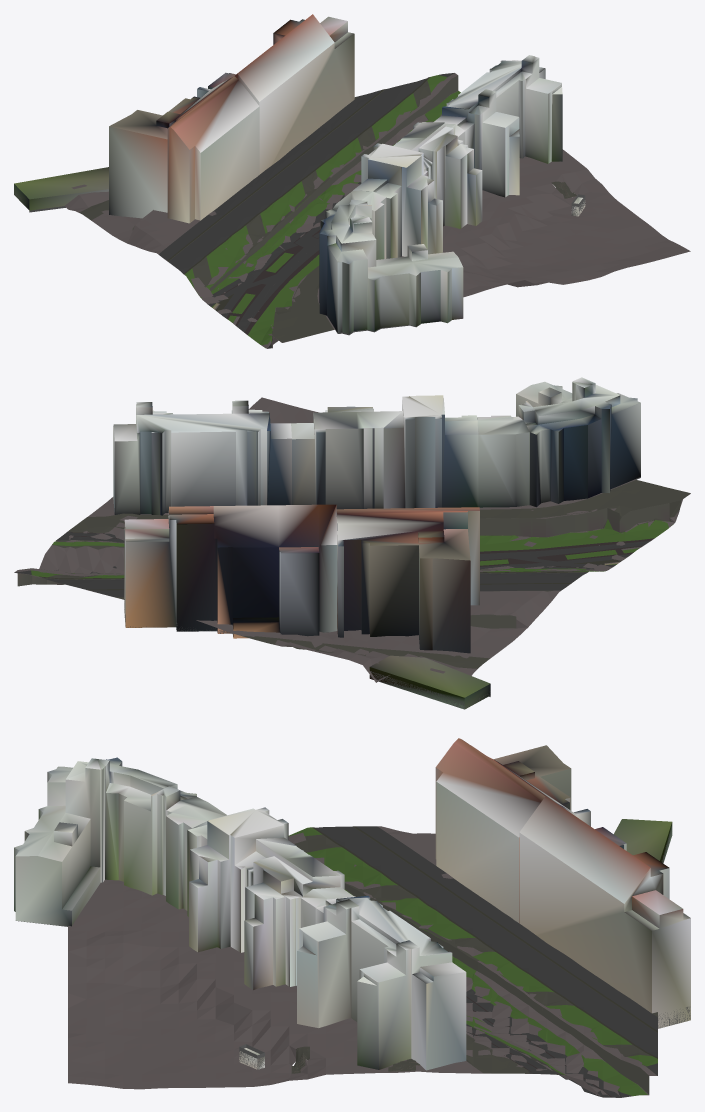
3 renders of one model, top to bottom at view 1: azimuth 30°, elevation 25°; view 2: azimuth 150°, elevation 25°; view 3: azimuth 270°, elevation 25°, orthographic. The views are drawn at different scales.
Parts seen in each view (by area): view 1: append:c_m12_p00; view 2: append:c_m12_p00; view 3: append:c_m12_p00.
Boxes of the visible parts, <box> form: append:c_m12_p00: <box>14,14,690,348</box>; append:c_m12_p00: <box>14,377,690,709</box>; append:c_m12_p00: <box>14,738,690,1097</box>.
Bounding box in the file's own units: 138 × 35.32 × 147.
